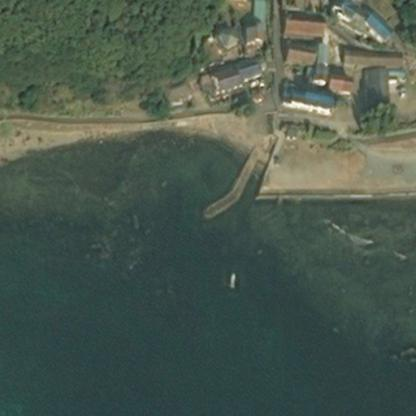ship: (228, 278, 236, 280)
